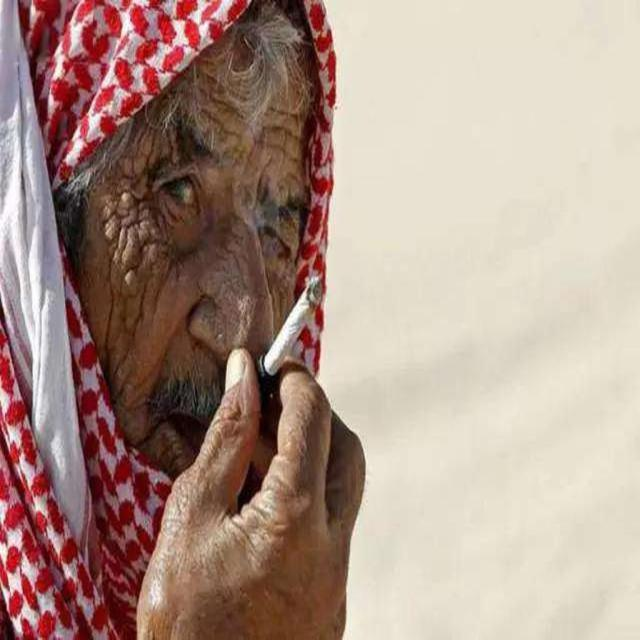smoking: (70, 4, 380, 566)
